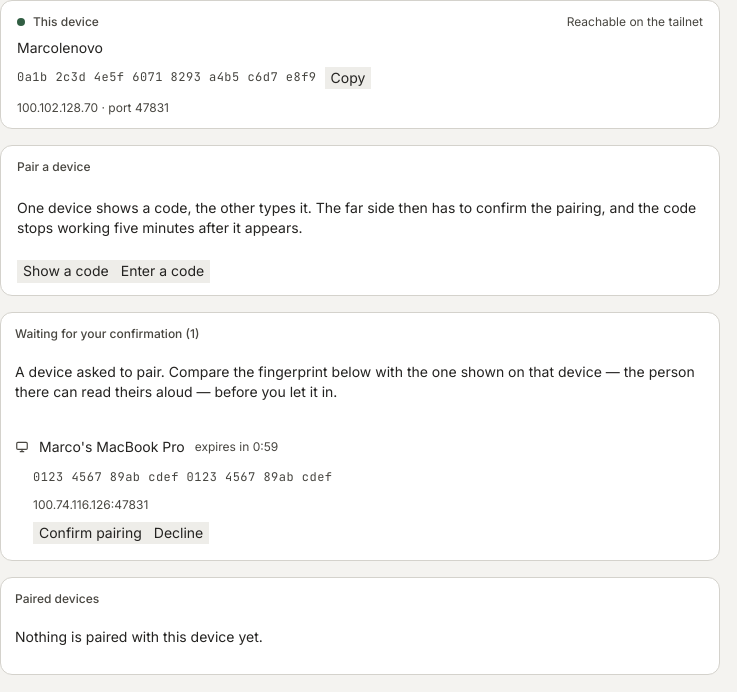
Test: devices panel › drops the card on a decline, which is a success and not an error
Click the button "Decline" at x=179, y=533, box 148,522 -> 209,544
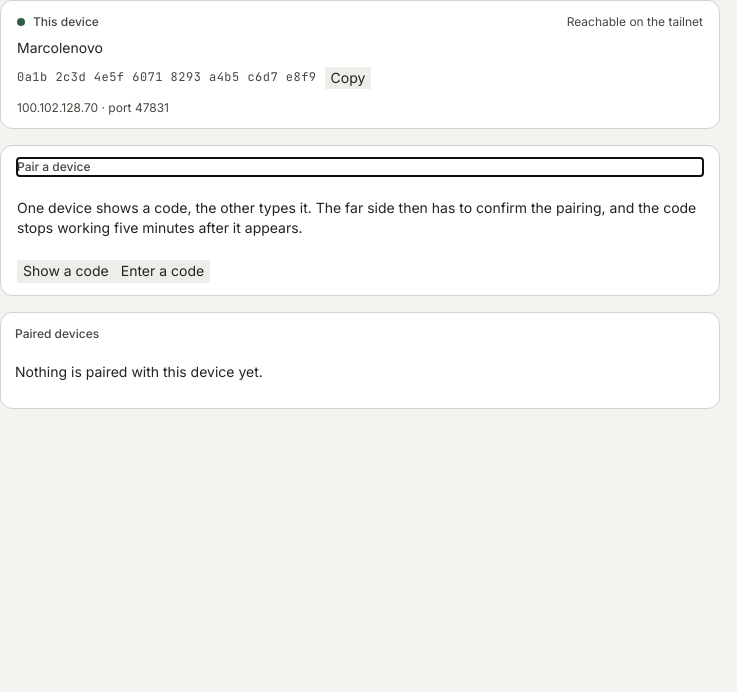
Result: the text "Waiting for your confirmation" is gone
Result: the text "Marco's MacBook Pro" is gone
